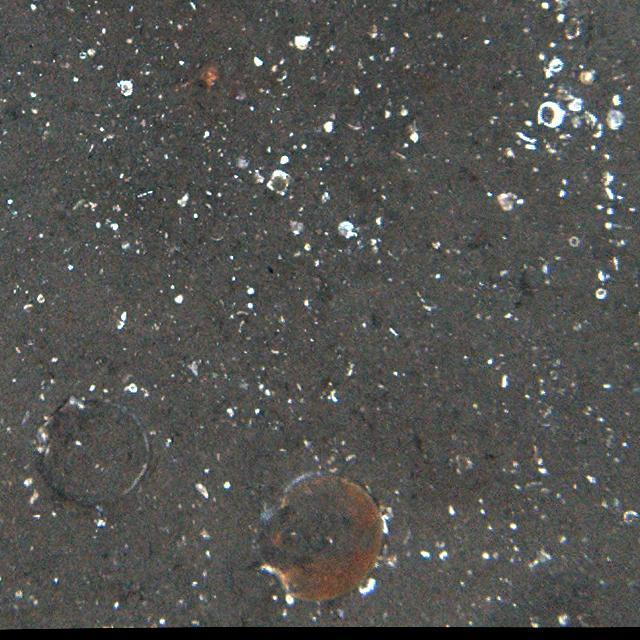scallop: (256, 474, 382, 602), (38, 398, 154, 504)
